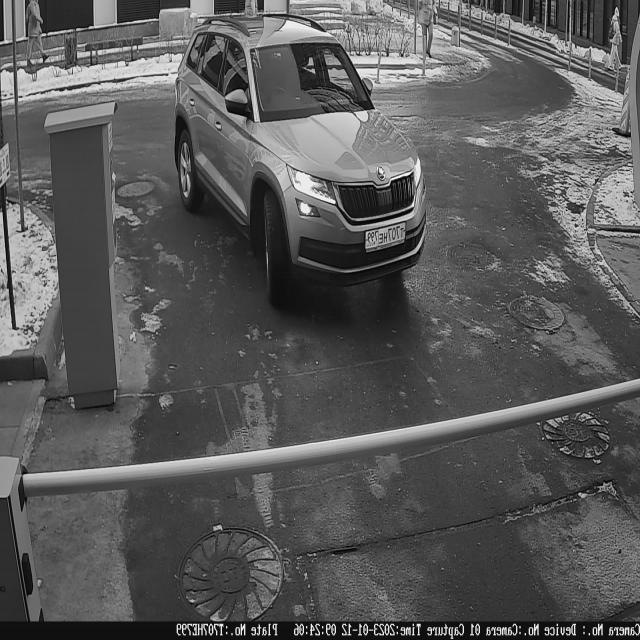car-plate-numbers: (359, 213, 410, 260)
